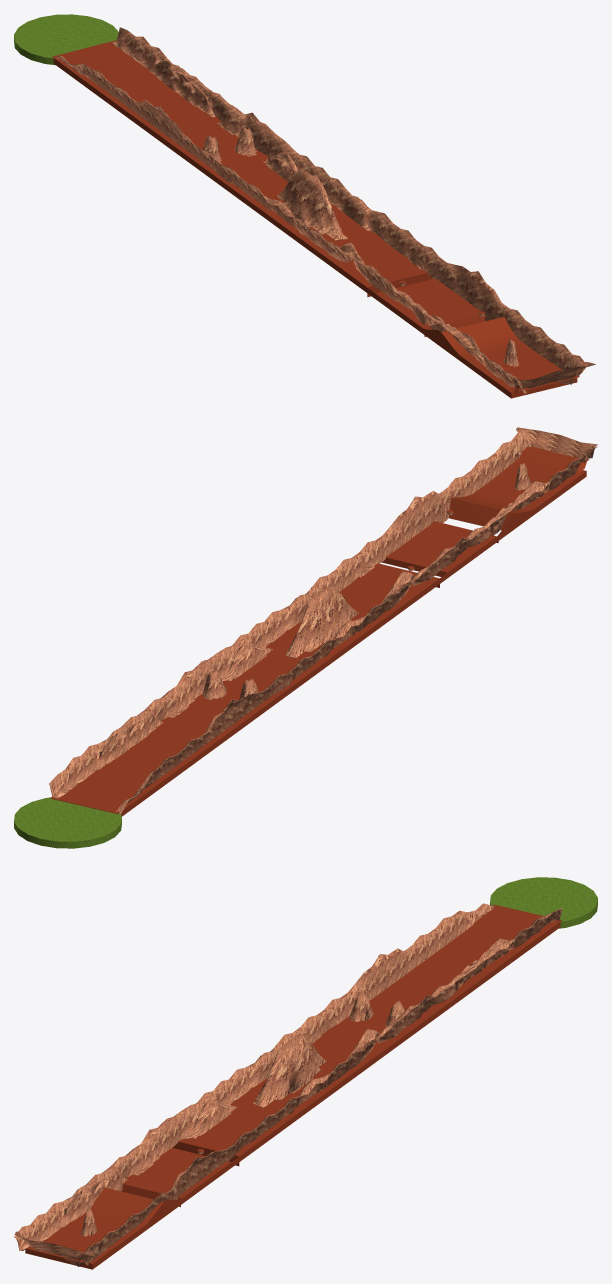
Rendered from MapaMoto2.fbx.
The picture shows the model from 3 angles, top to bottom: view 1: azimuth 30°, elevation 25°; view 2: azimuth 150°, elevation 25°; view 3: azimuth 330°, elevation 25°; orthographic projection. The views are drawn at different scales.
Visible parts, largest first — view 1: elevacionesMontañas, Box001, Cylinder001, Plane003; view 2: elevacionesMontañas, Box001, Cylinder001, Plane003, terreno1; view 3: elevacionesMontañas, Box001, Cylinder001, Plane003.
Part boxes in pixels (left/top/right/bottom): elevacionesMontañas: left=51, top=27, right=587, bottom=393; Box001: left=52, top=40, right=577, bottom=398; Cylinder001: left=14, top=14, right=118, bottom=65; Plane003: left=513, top=362, right=595, bottom=387; elevacionesMontañas: left=49, top=430, right=597, bottom=814; Box001: left=50, top=458, right=586, bottom=816; Cylinder001: left=14, top=797, right=121, bottom=848; Plane003: left=516, top=427, right=597, bottom=462; terreno1: left=518, top=447, right=589, bottom=473; elevacionesMontañas: left=14, top=903, right=562, bottom=1265; Box001: left=25, top=904, right=561, bottom=1269; Cylinder001: left=490, top=877, right=597, bottom=928; Plane003: left=14, top=1231, right=95, bottom=1266.
Bounding box in the file's own units: 357 × 194 × 3440.
